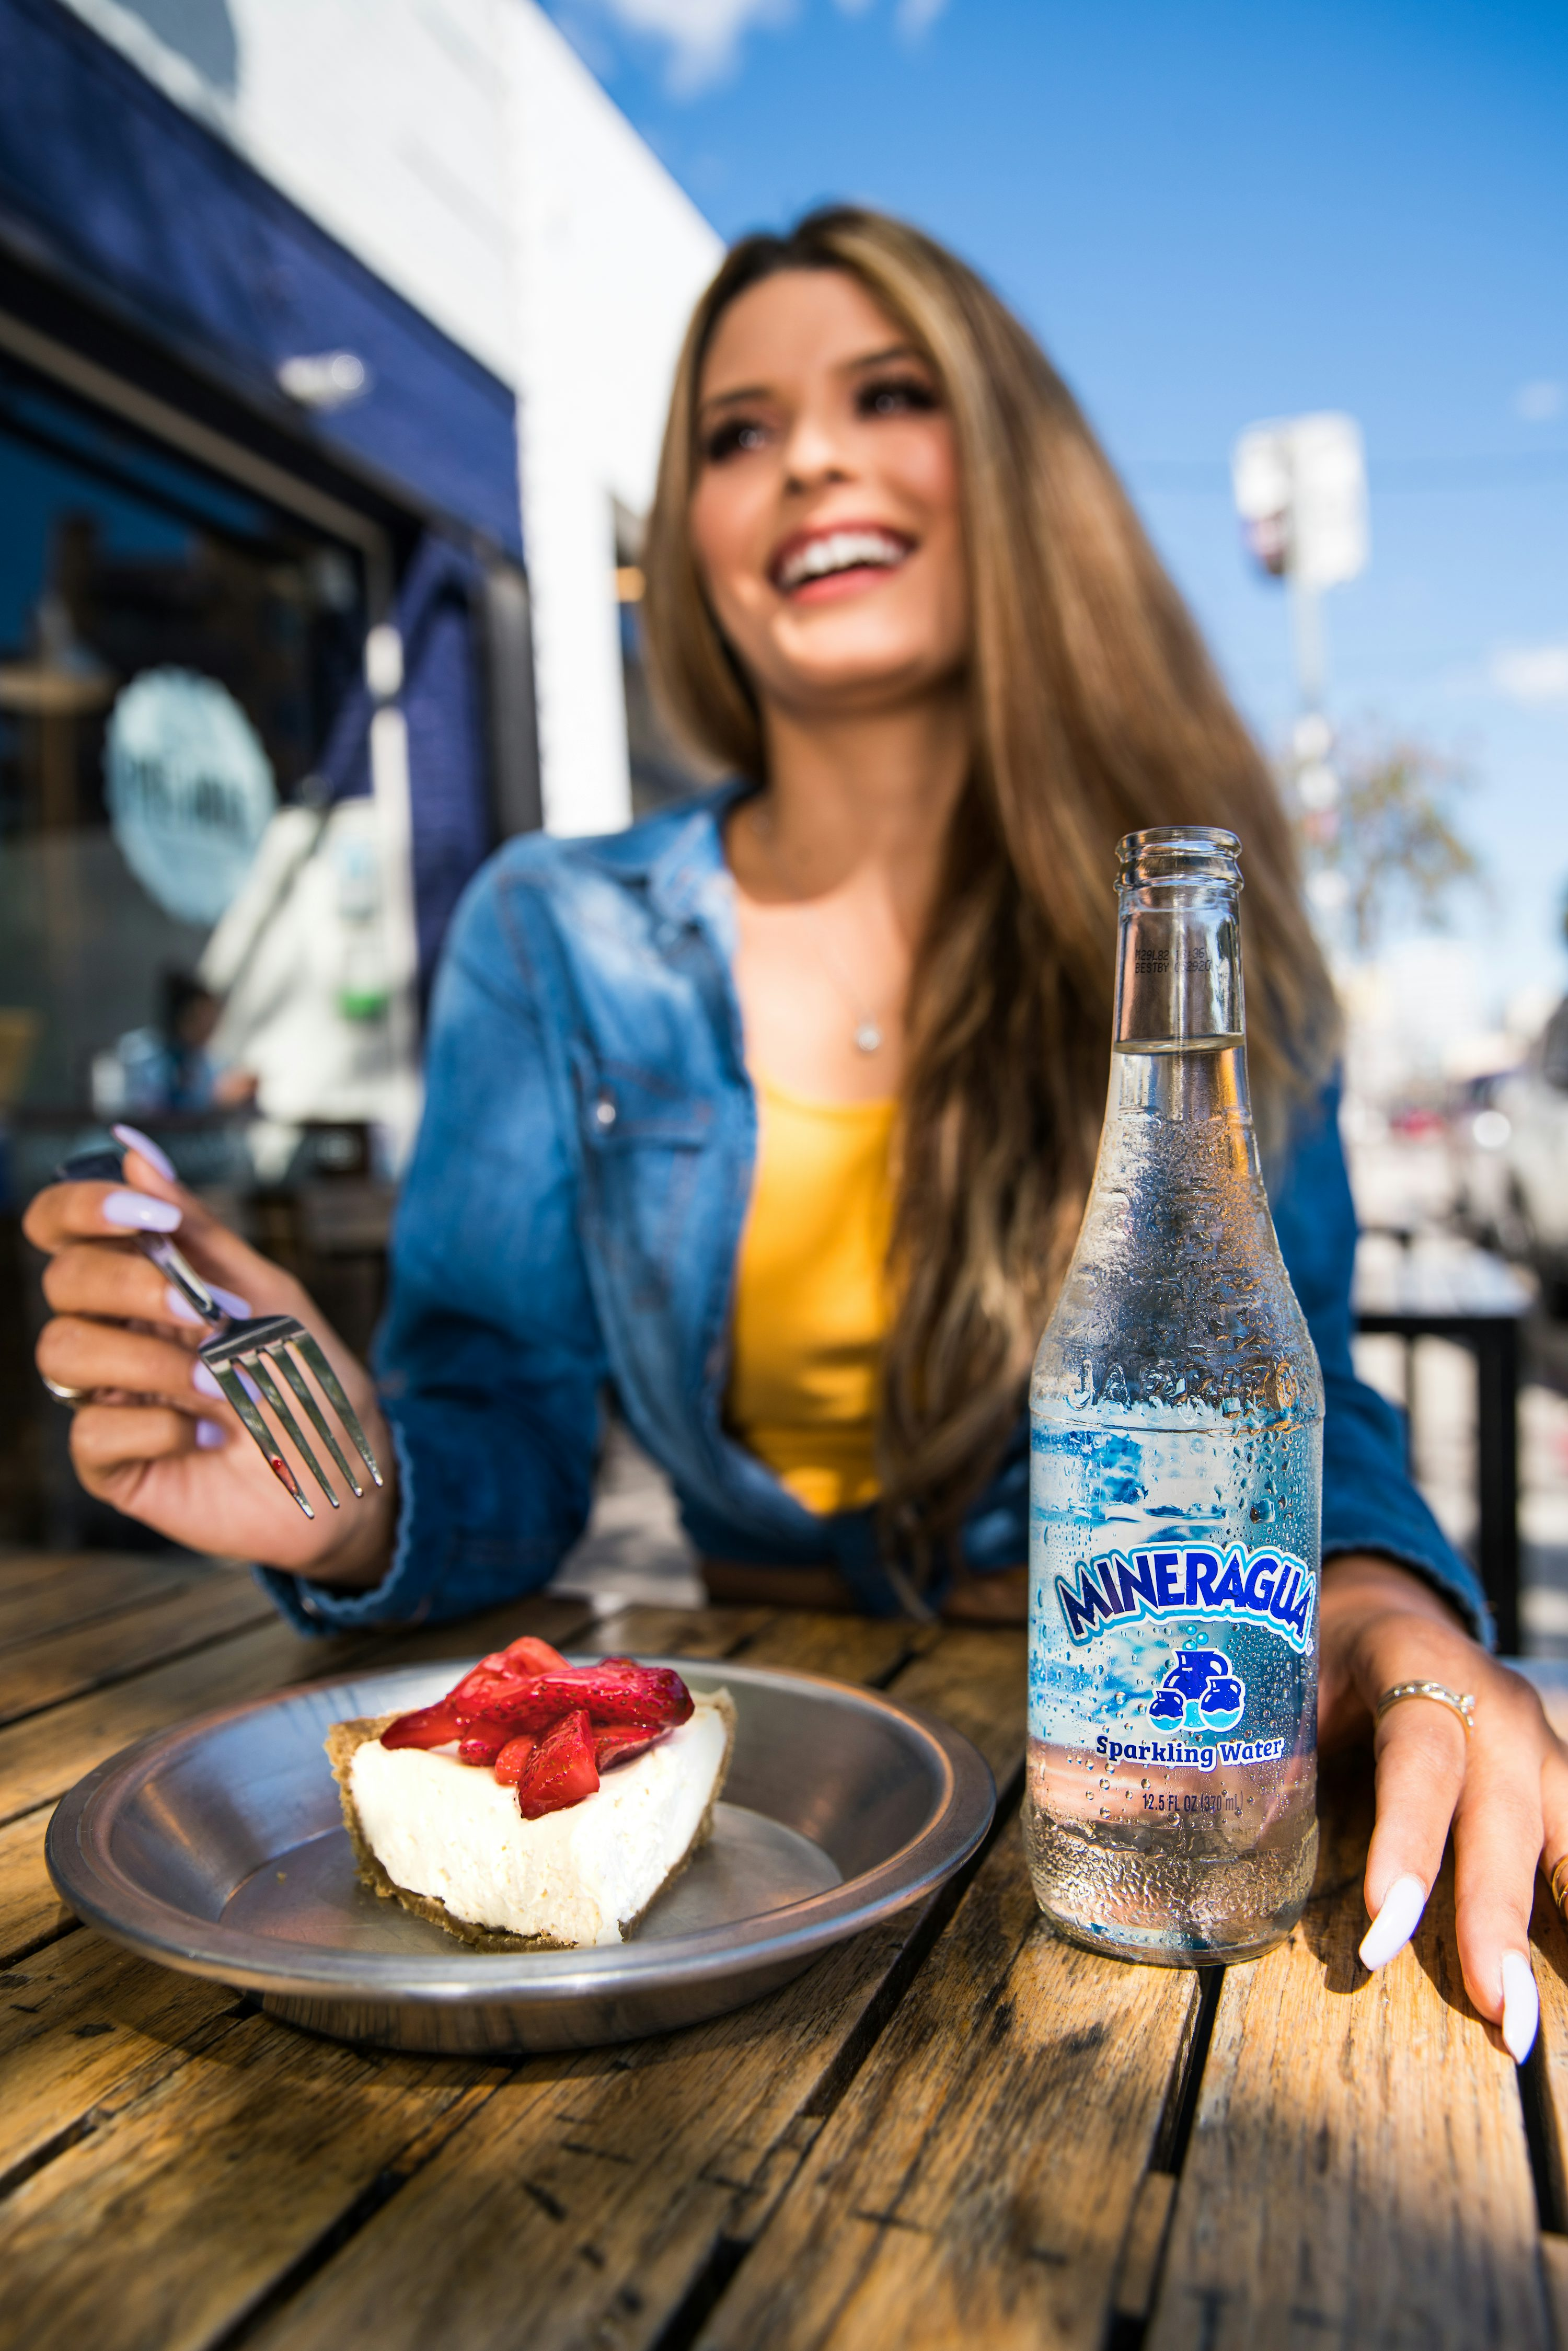glass_bottle: (976, 801, 1346, 1977)
